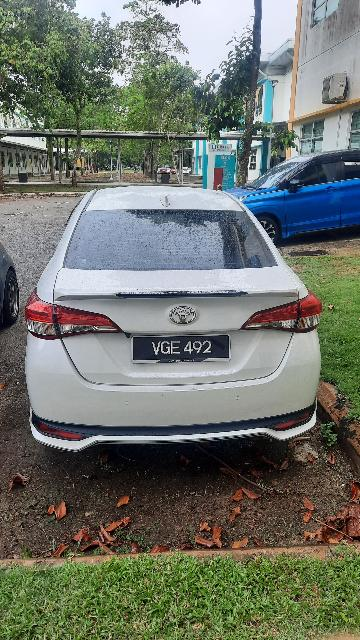License_Plate: (126, 331, 244, 374)
car: (27, 172, 331, 458)
